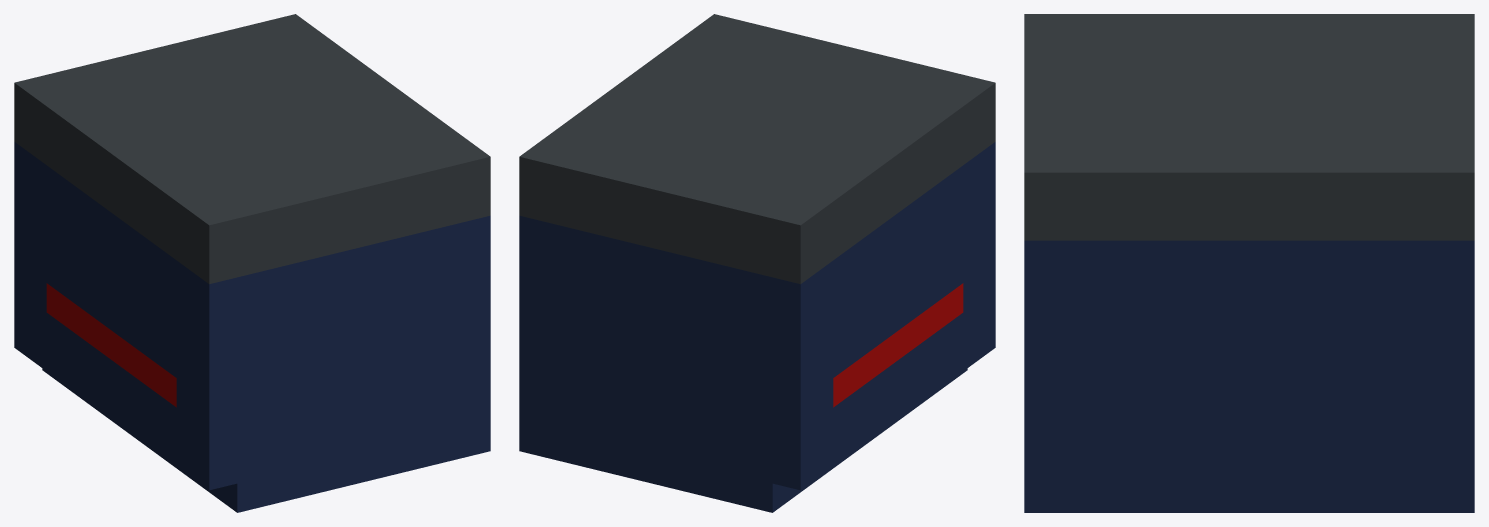
Rendered from touring_bike_top_box.glb.
The picture shows the model from 3 angles, left to right: view 1: azimuth 30°, elevation 25°; view 2: azimuth 150°, elevation 25°; view 3: azimuth 270°, elevation 25°; orthographic projection. The views are drawn at different scales.
Visible parts, largest first — view 1: body:compound; view 2: body:compound; view 3: body:compound.
Part boxes in pixels (x1=…): body:compound: x1=14, y1=14, x2=490, y2=512; body:compound: x1=519, y1=14, x2=995, y2=512; body:compound: x1=1024, y1=14, x2=1474, y2=512.
Bounding box in the file's own units: 0.3125 × 0.3125 × 0.375.
